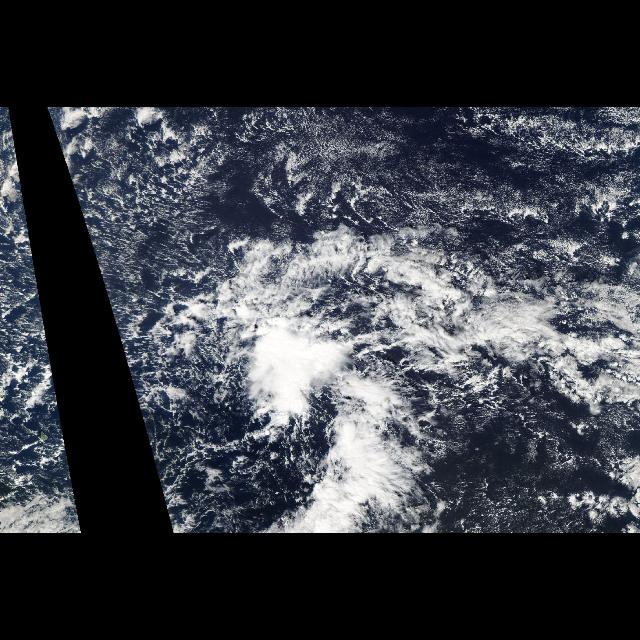Fish: (192, 239, 618, 533)
Gravel: (46, 109, 264, 533), (0, 109, 82, 533)
Sugar: (219, 107, 639, 249)
